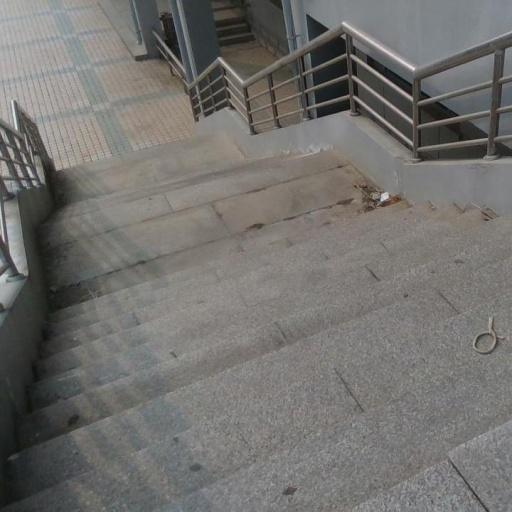stairs: (3, 136, 511, 511), (212, 0, 254, 46)
